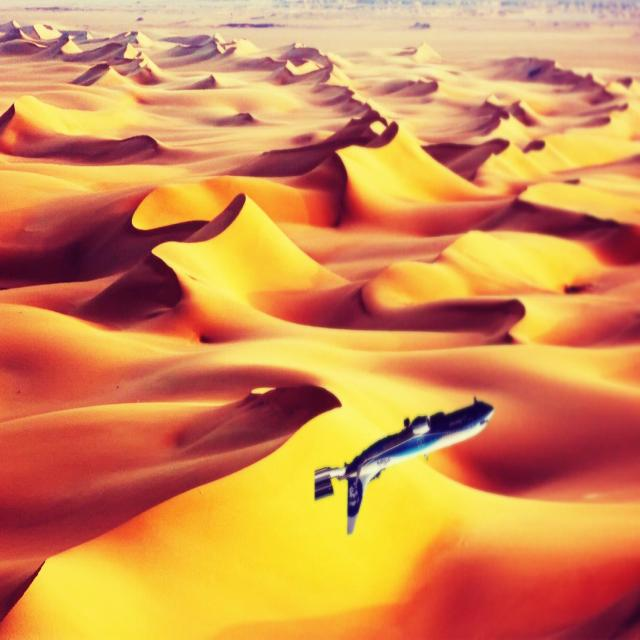airplane: (314, 394, 494, 535)
